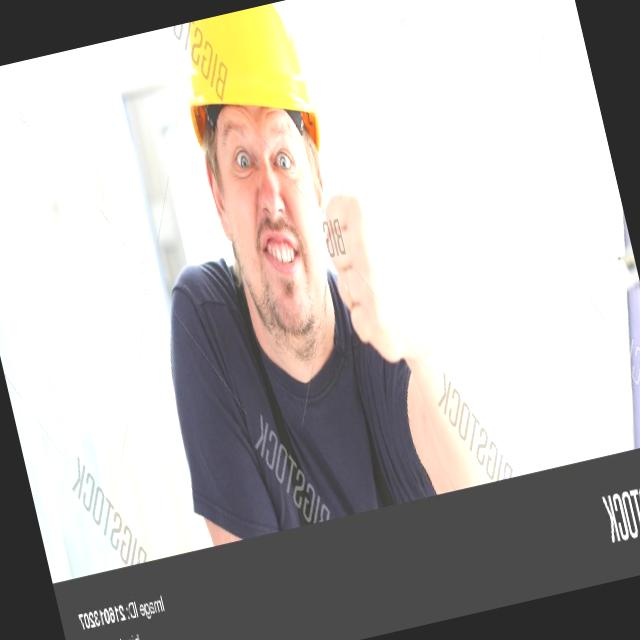helmet: (155, 0, 334, 182)
no-goggles: (205, 116, 319, 210)
no-vest: (141, 258, 440, 546)
